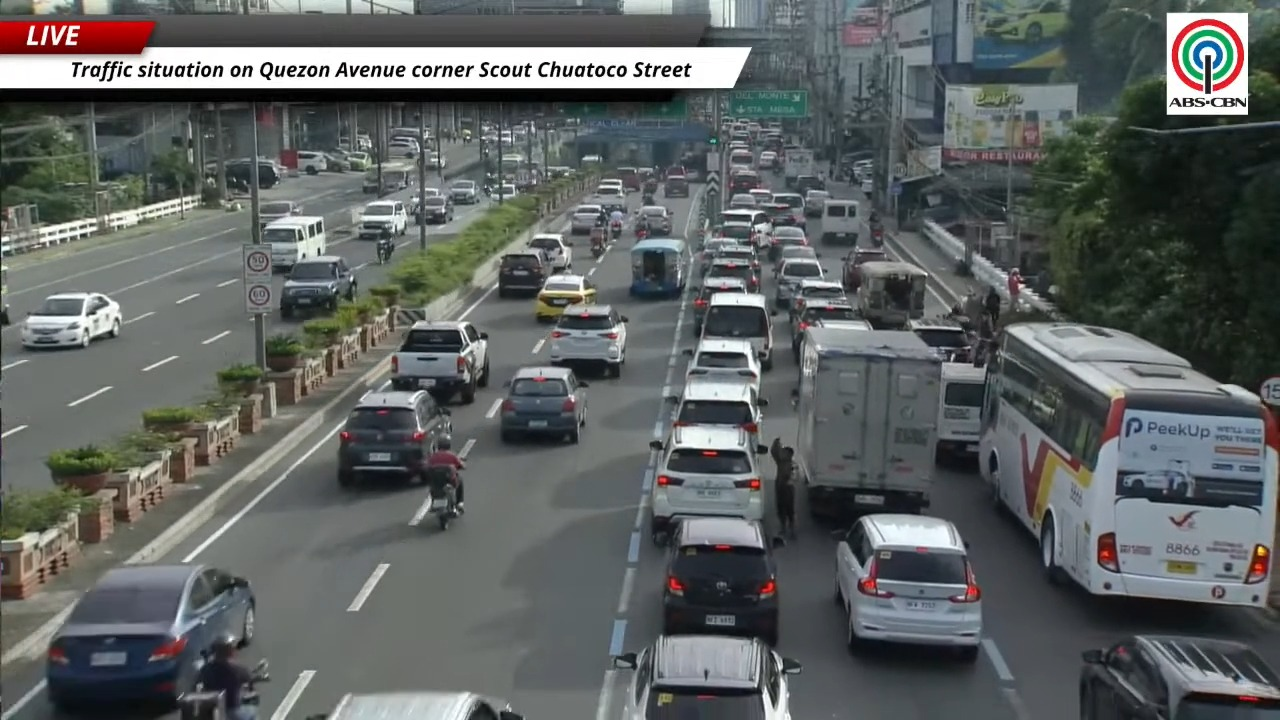bus: (978, 323, 1279, 605)
car: (45, 564, 255, 711), (835, 513, 981, 661), (1078, 634, 1279, 719), (612, 635, 801, 719), (663, 517, 779, 645), (649, 425, 767, 545), (338, 390, 451, 486), (500, 366, 587, 443), (665, 375, 767, 437), (307, 690, 524, 719), (548, 305, 627, 377), (21, 292, 122, 348), (280, 256, 357, 318), (790, 297, 864, 361), (685, 339, 761, 392), (981, 0, 1067, 45), (796, 316, 873, 362), (692, 277, 747, 336), (534, 274, 596, 321), (497, 248, 553, 299), (907, 317, 971, 361), (789, 279, 847, 323), (774, 259, 824, 309), (842, 248, 889, 291), (357, 200, 408, 238), (720, 208, 772, 244), (704, 258, 759, 291), (527, 234, 571, 271), (767, 225, 808, 262), (698, 237, 738, 274), (711, 244, 758, 274), (773, 245, 818, 276), (771, 192, 806, 227), (258, 200, 302, 226), (637, 205, 672, 236), (758, 201, 798, 227), (418, 195, 454, 223), (591, 185, 626, 212), (571, 205, 602, 234), (717, 222, 756, 245), (296, 151, 328, 175), (728, 170, 762, 192), (805, 189, 829, 217), (663, 173, 689, 197), (796, 174, 825, 194), (492, 183, 519, 202), (346, 151, 371, 171), (728, 193, 758, 208), (748, 188, 771, 205), (757, 151, 778, 169), (597, 178, 625, 191)
motorcycle: (424, 465, 458, 530), (176, 684, 229, 719), (376, 238, 394, 264), (590, 225, 606, 246), (590, 238, 606, 259), (610, 221, 623, 241), (871, 226, 883, 246), (635, 226, 647, 241), (642, 192, 655, 205), (483, 185, 492, 197)
truck: (794, 326, 942, 522), (390, 320, 489, 403), (783, 148, 817, 189)
